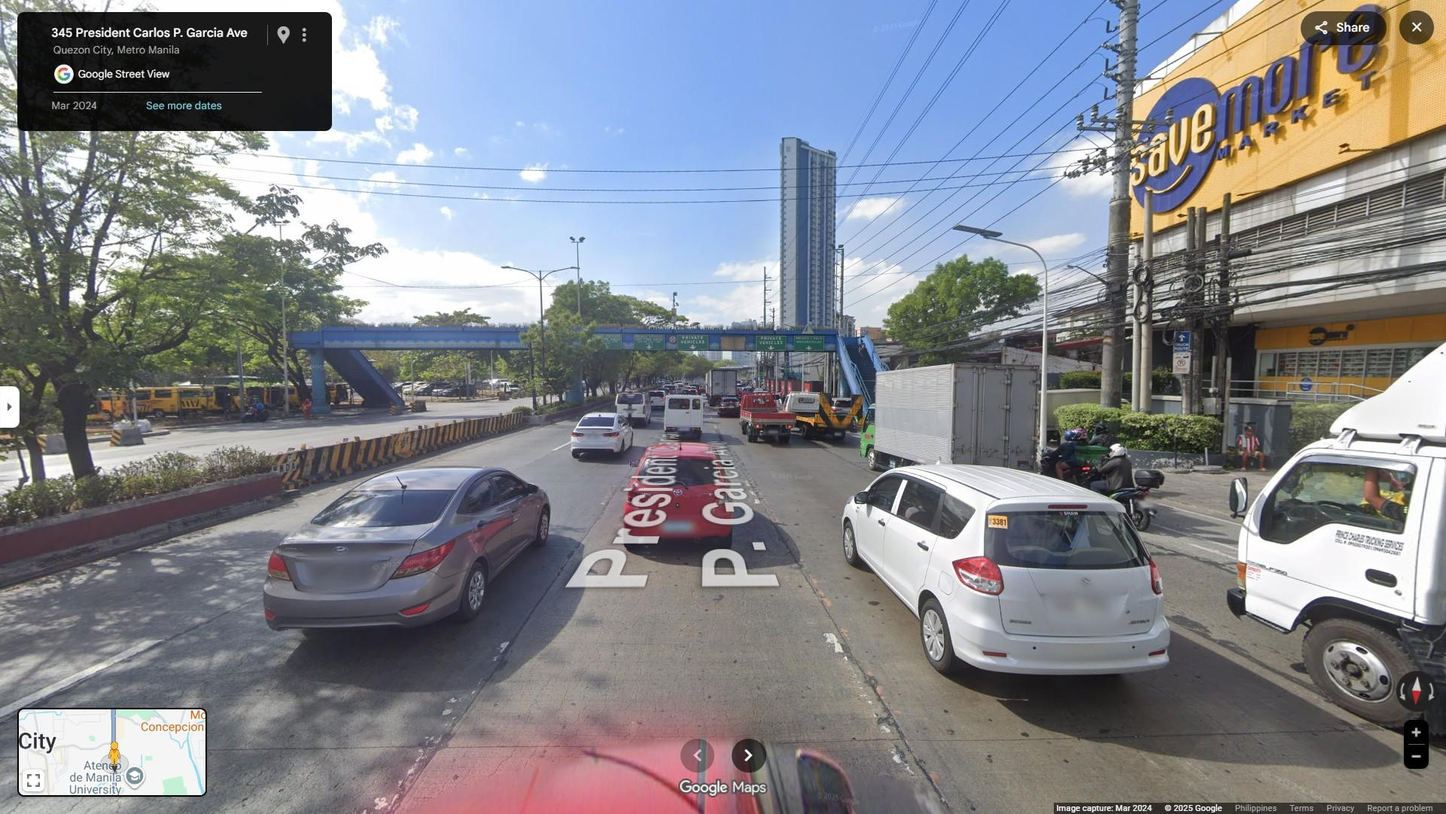pedestrian: (1236, 425, 1268, 472), (300, 395, 313, 422), (693, 323, 702, 342), (859, 342, 867, 363)
